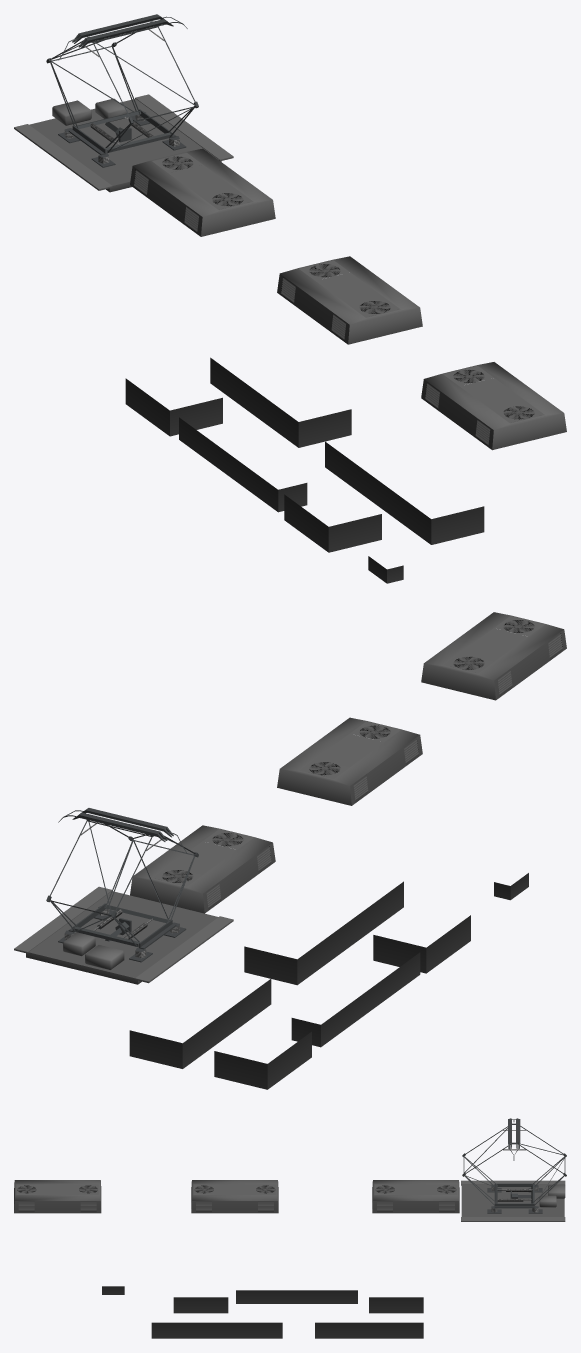
The model's file is H2000_YANE00.glb.
The picture shows the model from 3 angles, top to bottom: view 1: azimuth 30°, elevation 25°; view 2: azimuth 150°, elevation 25°; view 3: azimuth 270°, elevation 25°; orthographic projection. The views are drawn at different scales.
Visible parts, largest first — view 1: moter; view 2: moter; view 3: moter.
Part boxes in pixels (bbox=[...]): moter: bbox=[14, 14, 566, 583]; moter: bbox=[14, 612, 566, 1089]; moter: bbox=[14, 1118, 566, 1338].
Size of the model in its own units: 5.55 by 11.71 by 31.23.
4 materials, 4 textured.
